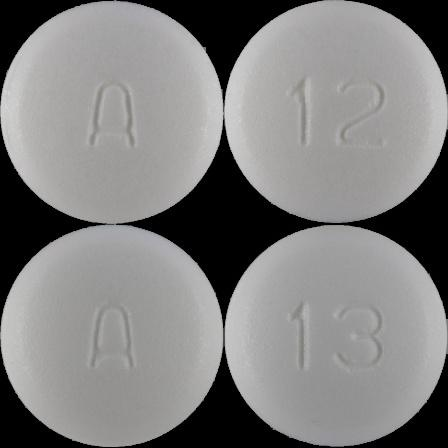65862-008: (0, 0, 224, 224)
